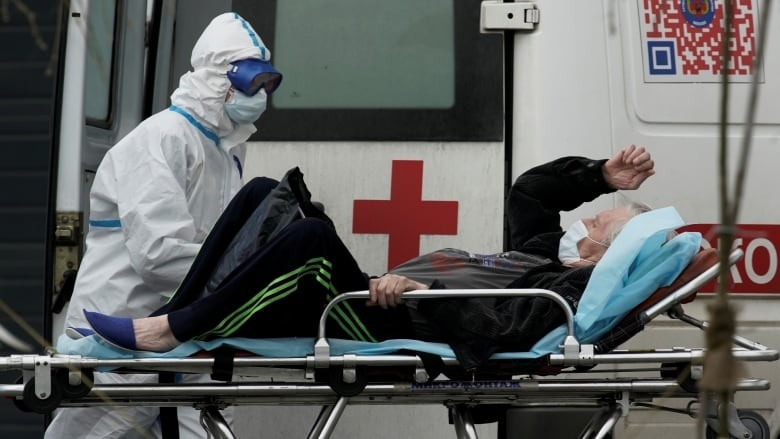Coverall: (41, 10, 284, 439)
Goggles: (225, 53, 289, 99)
with_mask: (552, 200, 619, 268), (219, 62, 268, 140)
